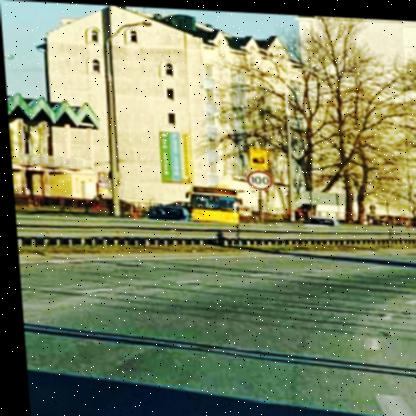Speed Limit -100-: (243, 165, 271, 189)
